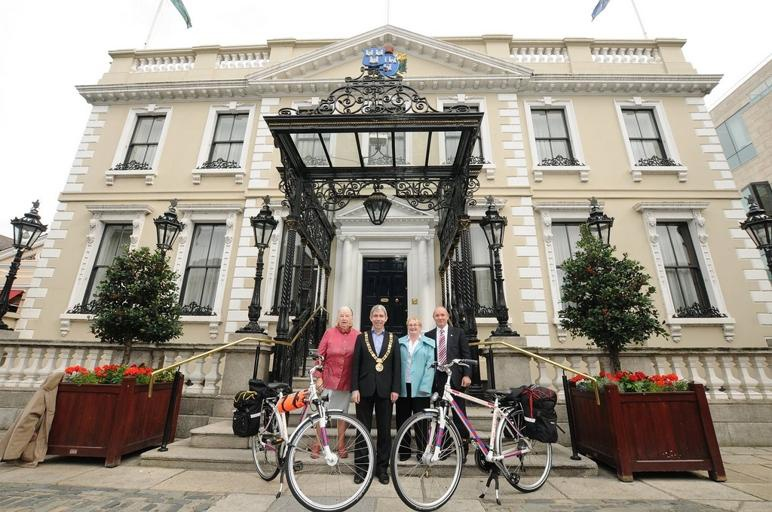non-vehicle: (390, 357, 552, 511), (251, 350, 375, 511)
